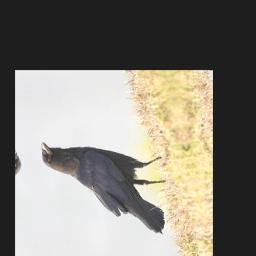Crow: (37, 123, 181, 250)
